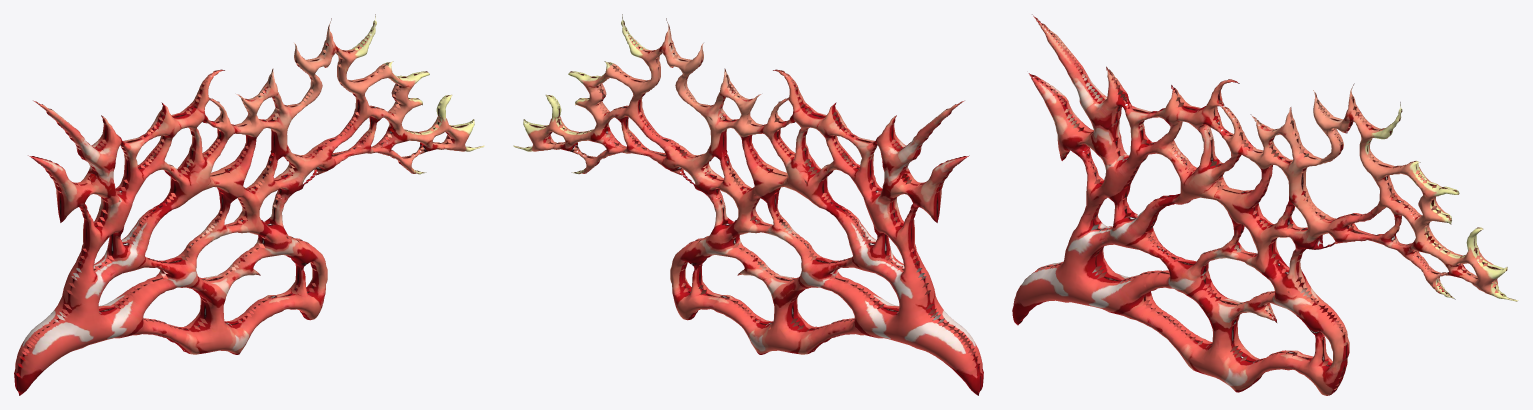
File: coral_lattice.glb
3 renders of one model, left to right at view 1: azimuth 30°, elevation 25°; view 2: azimuth 150°, elevation 25°; view 3: azimuth 330°, elevation 25°, orthographic. The views are drawn at different scales.
Parts seen in each view (by area): view 1: coral_lattice; view 2: coral_lattice; view 3: coral_lattice.
Part boxes in pixels (box(x1,y1,x2,y2)): coral_lattice: box(14, 14, 484, 395); coral_lattice: box(513, 14, 983, 395); coral_lattice: box(1012, 14, 1518, 395).
Bounding box in the file's own units: 0.9842 × 0.617 × 0.1029.
1 material, 1 textured.
